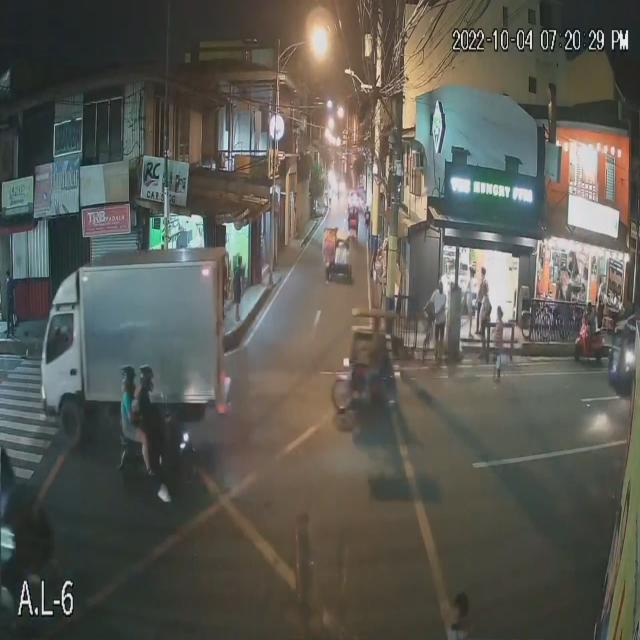Full-Faced: (137, 362, 155, 393), (118, 365, 138, 388)
